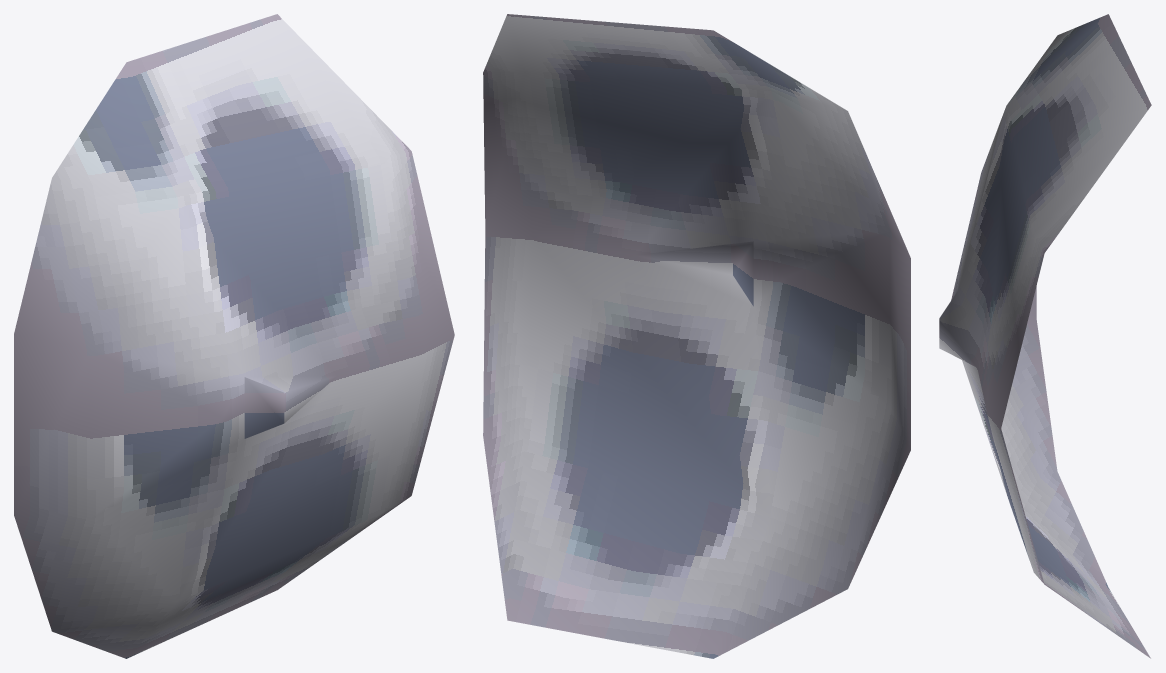
File: acc_pack.dae
3 renders of one model, left to right at view 1: azimuth 30°, elevation 25°; view 2: azimuth 150°, elevation 25°; view 3: azimuth 270°, elevation 25°, orthographic. The views are drawn at different scales.
Parts seen in each view (by area): view 1: acc_pack; view 2: acc_pack; view 3: acc_pack.
Boxes of the visible parts, left/top/right/bottom form: acc_pack: left=14, top=14, right=454, bottom=658; acc_pack: left=483, top=14, right=910, bottom=658; acc_pack: left=939, top=14, right=1151, bottom=658.
Bounding box in the file's own units: 13.37 × 18.05 × 6.06.
Materials: 1 (1 with a texture image).
